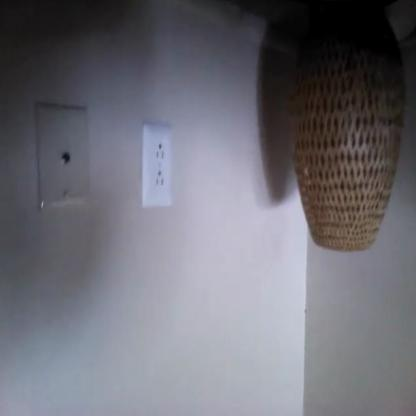OUTLET: (140, 125, 172, 210)
